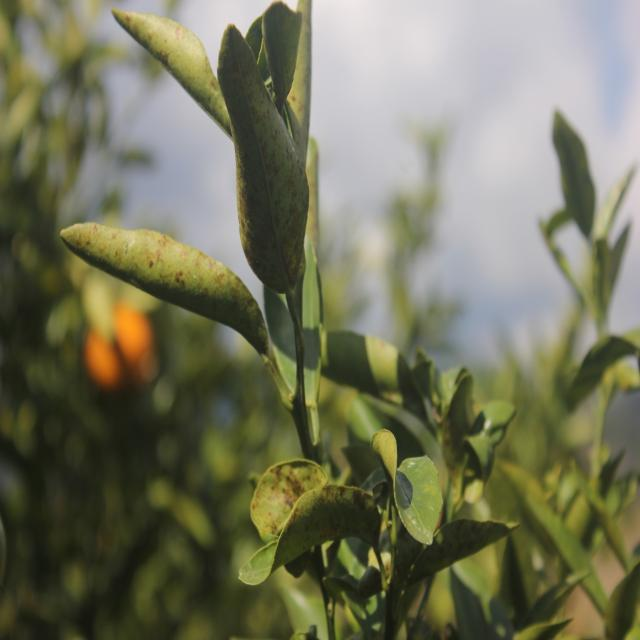melanose: (62, 203, 274, 388), (217, 31, 318, 296), (240, 446, 382, 591), (104, 0, 220, 125)
